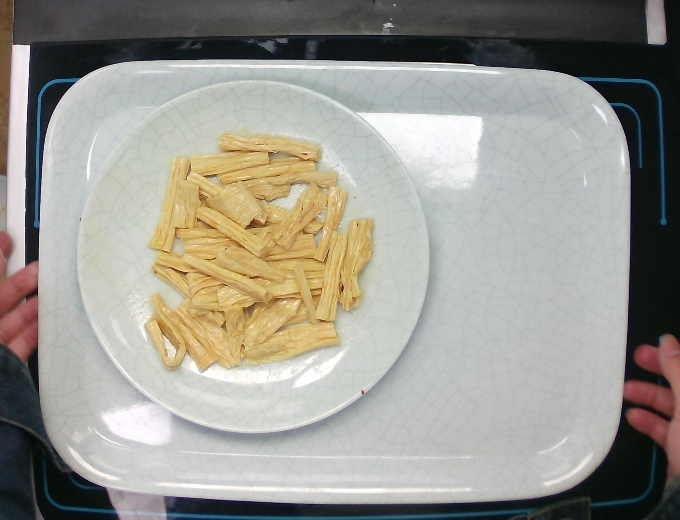JYsf-Da_Yuan_Pan: (72, 76, 434, 440)
